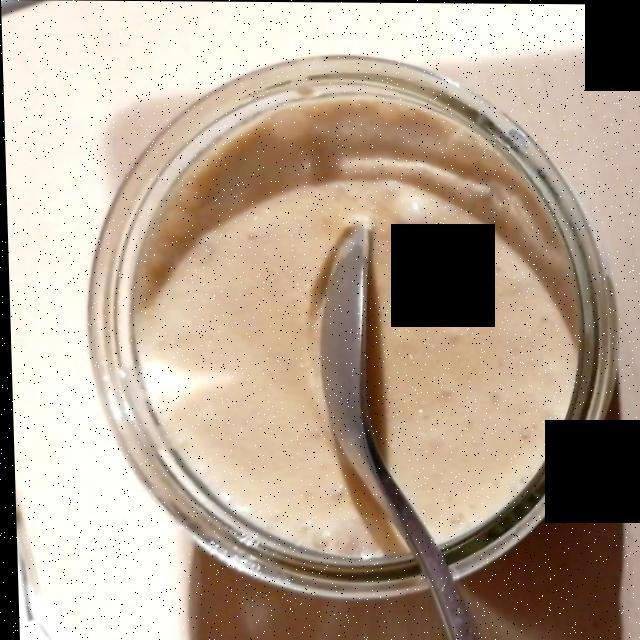ice-cream: (148, 115, 568, 550)
